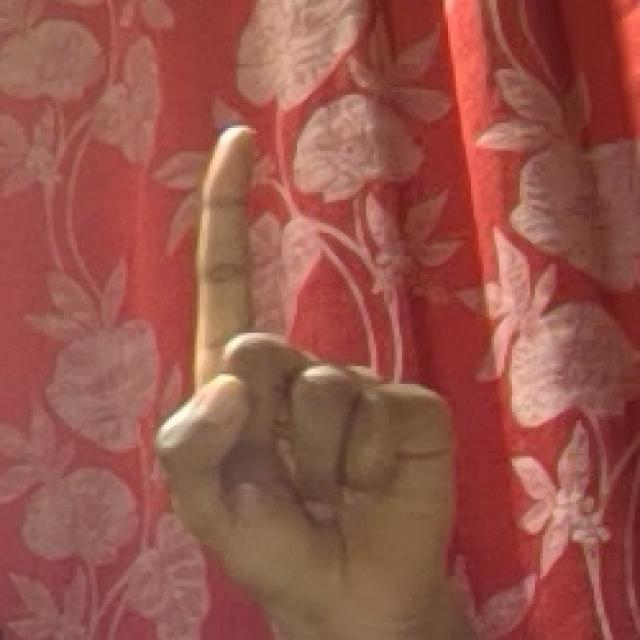Numeric-1: (160, 117, 454, 610)
